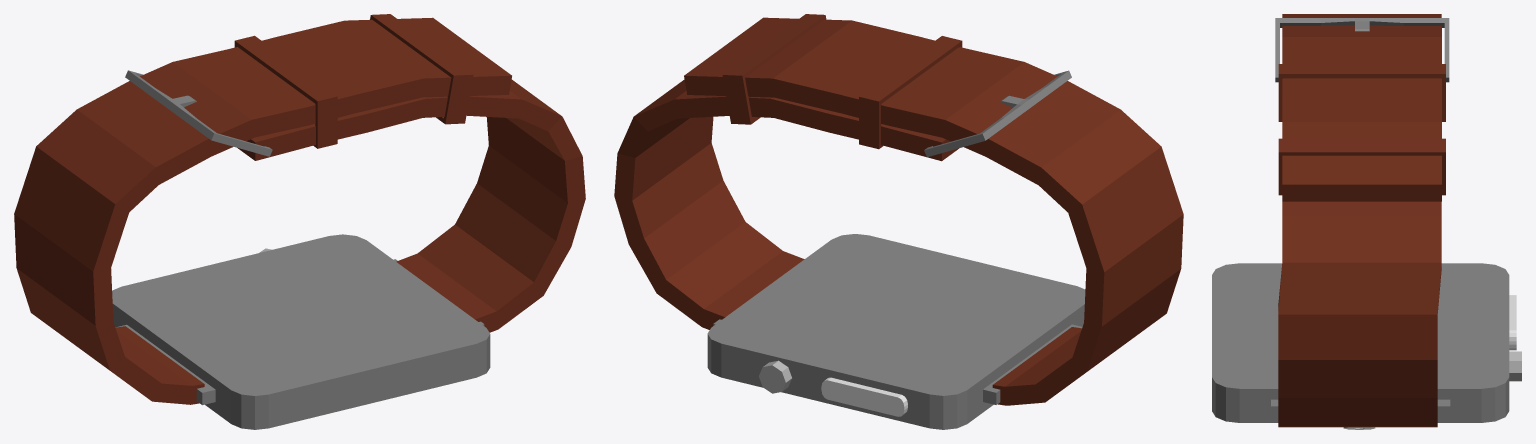
File: watch.fbx
3 renders of one model, left to right at view 1: azimuth 30°, elevation 25°; view 2: azimuth 150°, elevation 25°; view 3: azimuth 270°, elevation 25°, orthographic.
Parts seen in each view (by area): view 1: strap, watchface, bucklestrap, strap_strap, strap_strap.001, buckle; view 2: strap, watchface, bucklestrap, strap_strap, strap_strap.001, Cube, buckle, Cylinder; view 3: bucklestrap, strap, watchface, strap_strap.001, strap_strap, buckle, Cube, Cylinder.
Part boxes in pixels (box(x1,y1,x2,y2)): strap: box(14, 17, 511, 404); watchface: box(112, 234, 490, 429); bucklestrap: box(237, 79, 585, 332); strap_strap: box(234, 35, 337, 148); strap_strap.001: box(370, 14, 473, 124); buckle: box(125, 70, 272, 156); strap: box(684, 17, 1183, 405); watchface: box(707, 234, 1085, 429); bucklestrap: box(614, 79, 958, 329); strap_strap: box(859, 36, 962, 149); strap_strap.001: box(722, 14, 826, 124); Cube: box(821, 377, 907, 416); buckle: box(924, 70, 1071, 157); Cylinder: box(759, 360, 791, 393); bucklestrap: box(1278, 201, 1441, 427); strap: box(1282, 14, 1441, 201); watchface: box(1212, 263, 1509, 422); strap_strap.001: box(1278, 138, 1445, 195); strap_strap: box(1278, 64, 1445, 121); buckle: box(1275, 18, 1449, 82); Cube: box(1509, 295, 1516, 350); Cylinder: box(1509, 351, 1521, 381).
Bounding box in the file's own units: 227 × 128 × 123.
